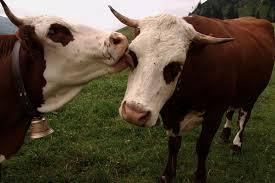cow: (106, 0, 275, 182), (0, 0, 134, 164)
